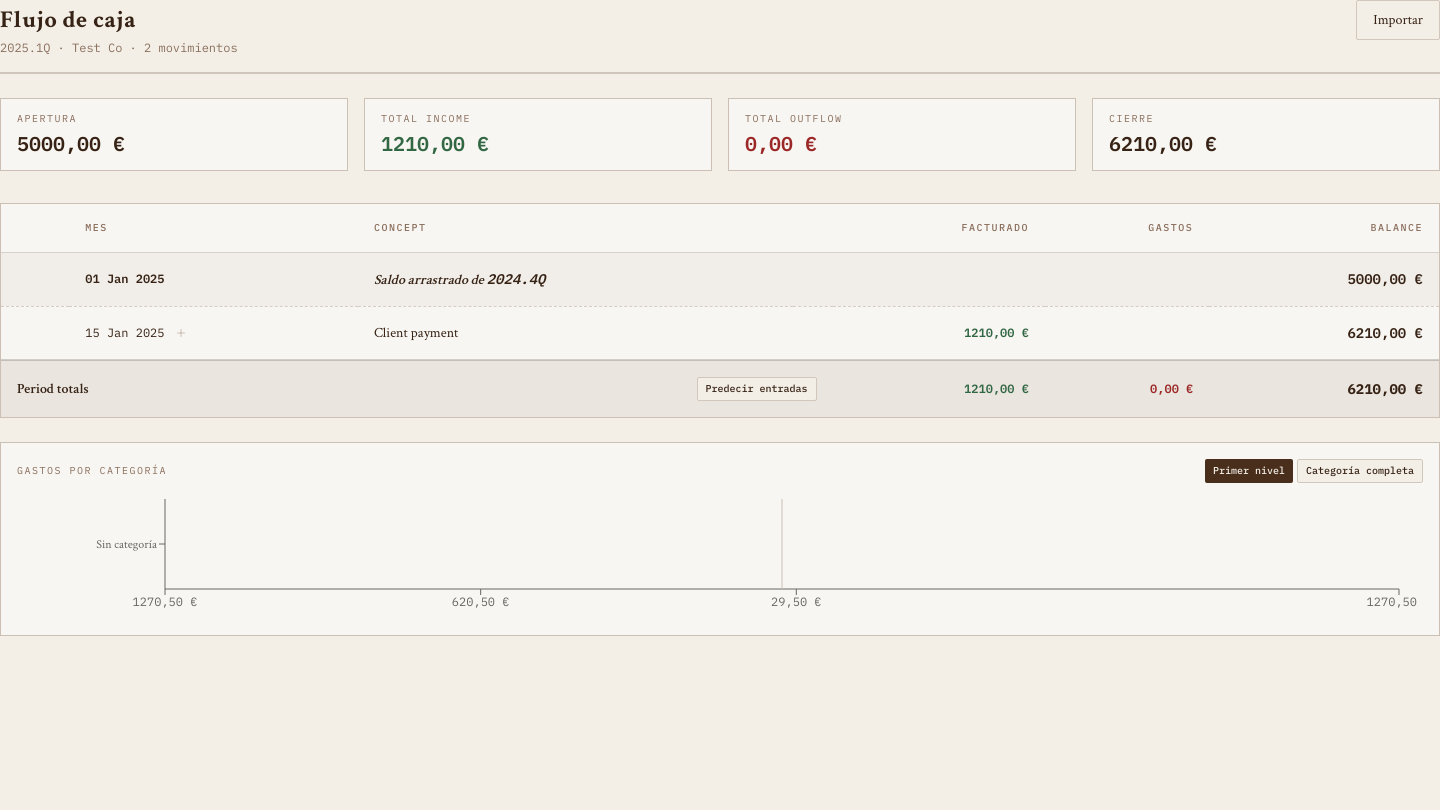
Test: CashflowView › shows the import dialog without a file preselected
The width and height of the screenshot is (1440, 810).
Click the button "Importar": (1398, 20) [1356,0,1439,40]
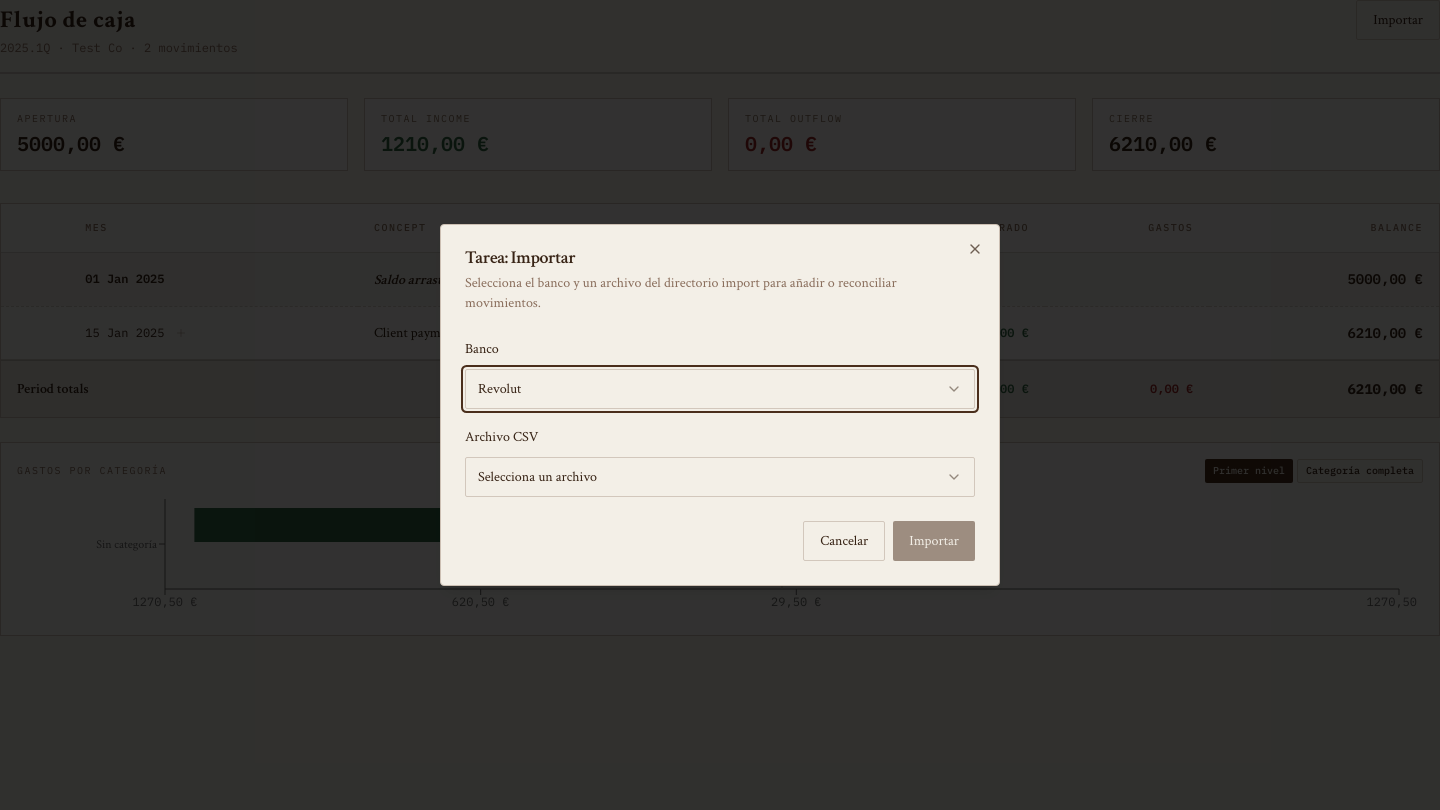
Check: the heading "Tarea: Importar" is shown, box [465,246,575,269]
Check: the text "Archivo CSV" is shown, box [465,428,538,446]
Check: the text "Selecciona un archivo" is shown, box [478,467,597,487]
